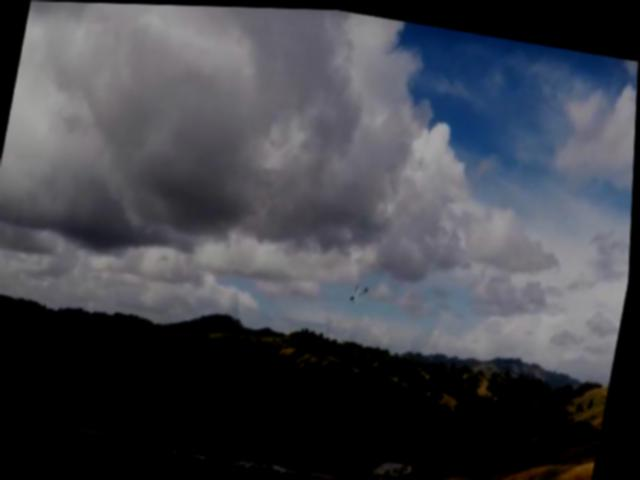iha: (348, 283, 371, 306)
